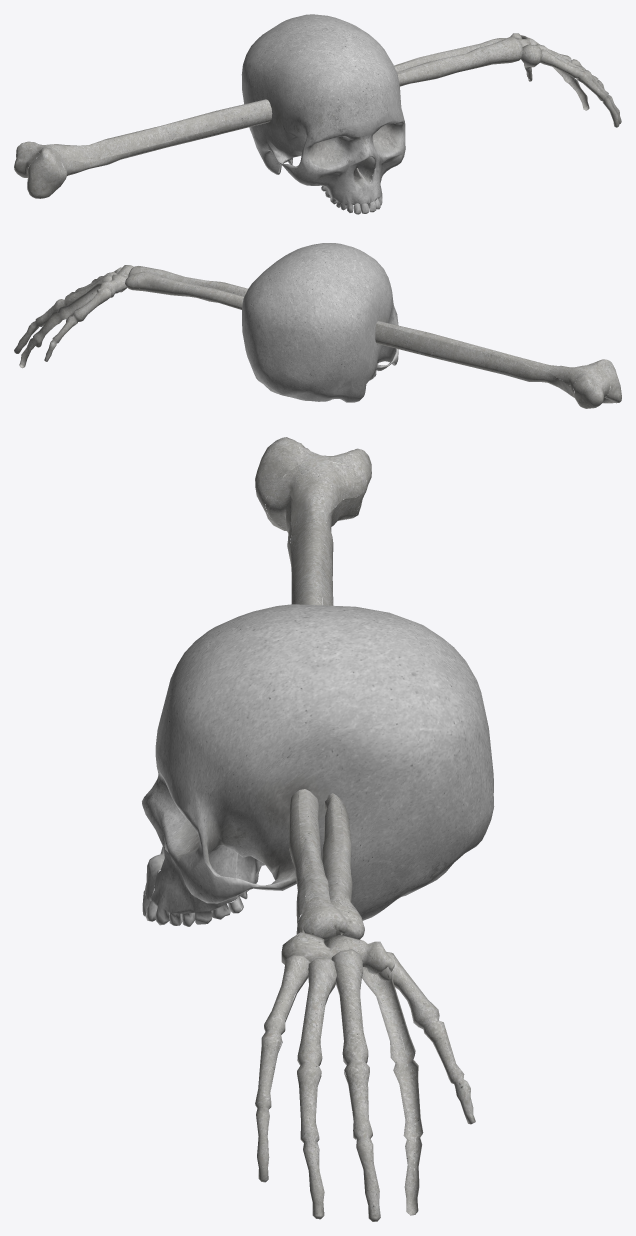
File: palka_11.glb
The picture shows the model from 3 angles, top to bottom: view 1: azimuth 30°, elevation 25°; view 2: azimuth 150°, elevation 25°; view 3: azimuth 270°, elevation 25°; orthographic projection. The views are drawn at different scales.
Visible parts, largest first — view 1: palka_11; view 2: palka_11; view 3: palka_11.
Part boxes in pixels (x1,y1,x2,y2): palka_11: [14, 14, 621, 214]; palka_11: [14, 243, 621, 408]; palka_11: [142, 437, 494, 1221].
Bounding box in the file's own units: 84.36 × 22.73 × 22.04.
Materials: 2 (2 with a texture image).
